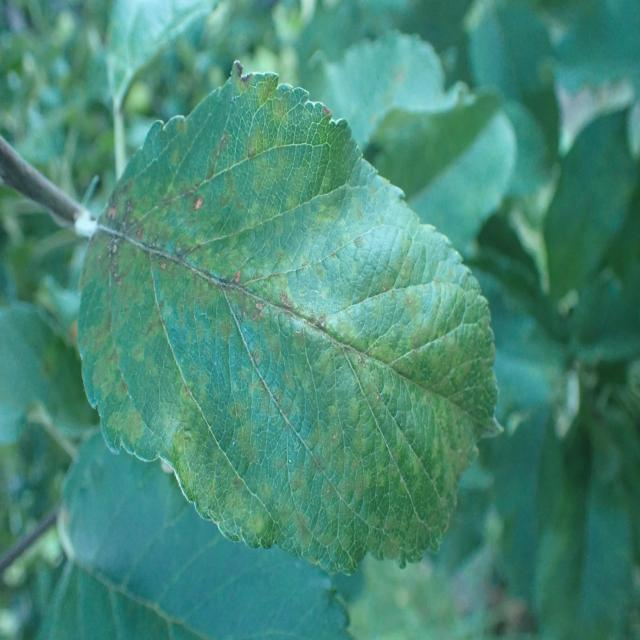scab: (95, 68, 498, 590)
